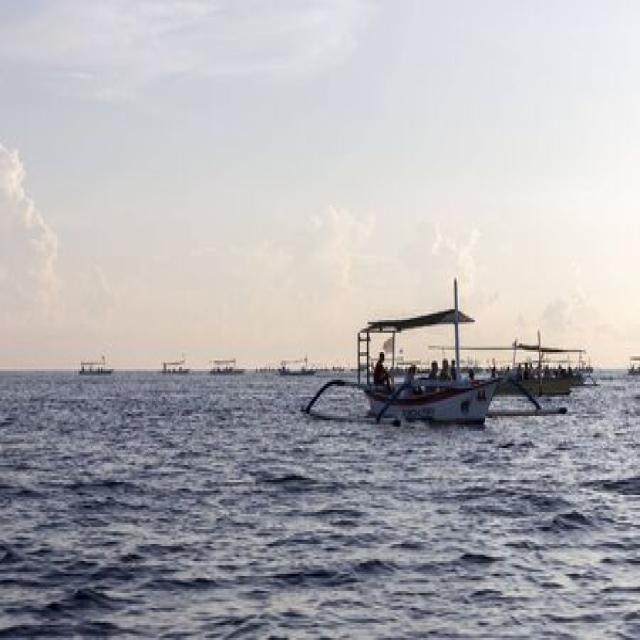fishing boat: (343, 280, 505, 424)
